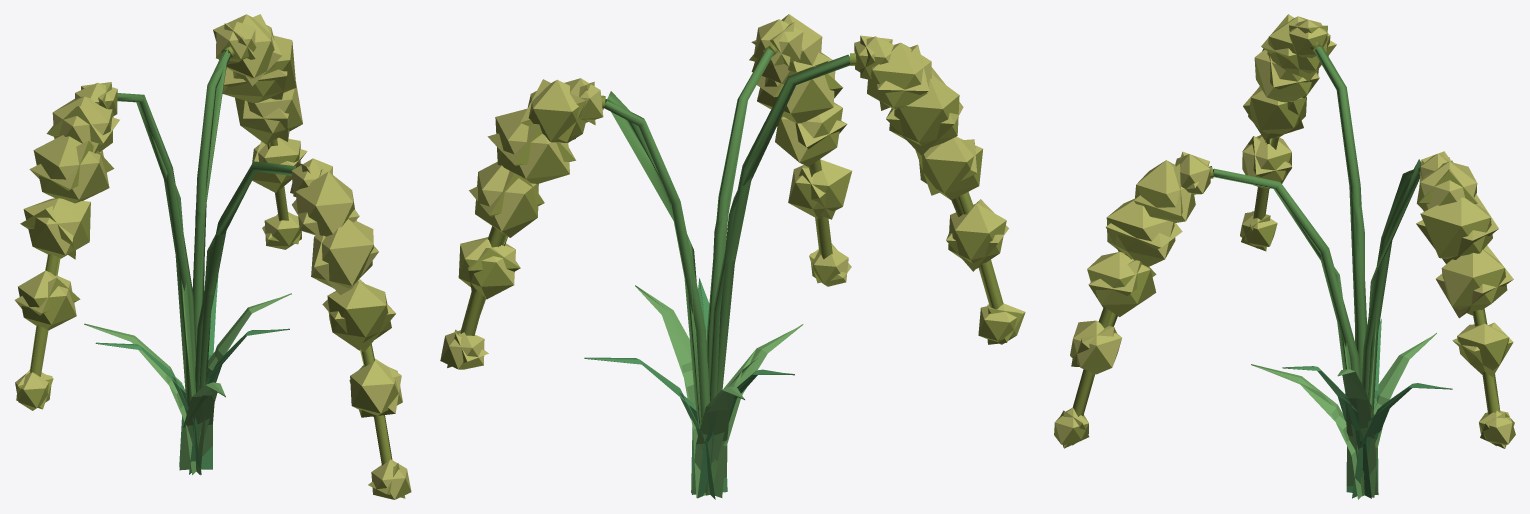
File: foxtail_b.glb
3 views of the same model, side by side, from view 1: azimuth 30°, elevation 25°; view 2: azimuth 150°, elevation 25°; view 3: azimuth 270°, elevation 25° (orthographic). The views are drawn at different scales.
Visible parts, largest first — view 1: petal_foxtail_nl, body__far, stem, leaf_nl; view 2: petal_foxtail_nl, body__far, stem, leaf_nl; view 3: petal_foxtail_nl, body__far, stem, leaf_nl.
Boxes of the visible parts, x1,y1,x2,y2 form: petal_foxtail_nl: [15, 14, 411, 499]; body__far: [15, 14, 405, 498]; stem: [29, 46, 392, 465]; leaf_nl: [84, 275, 291, 475]; petal_foxtail_nl: [440, 14, 1025, 369]; body__far: [447, 22, 1023, 492]; stem: [461, 44, 1003, 495]; leaf_nl: [584, 278, 803, 499]; petal_foxtail_nl: [1054, 16, 1515, 446]; body__far: [1060, 14, 1514, 496]; stem: [1072, 41, 1500, 495]; leaf_nl: [1251, 319, 1452, 499].
Bounding box in the file's own units: 8.32 × 8.43 × 8.5.
